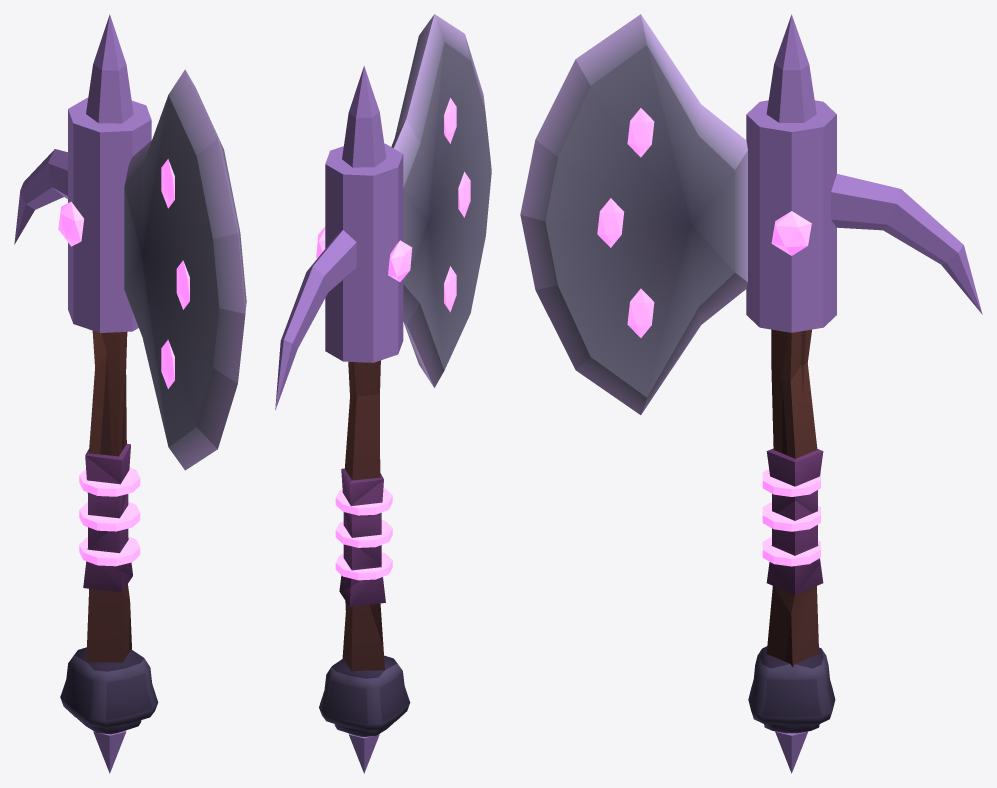
File: axe_epic.glb
3 renders of one model, left to right at view 1: azimuth 30°, elevation 25°; view 2: azimuth 150°, elevation 25°; view 3: azimuth 270°, elevation 25°, orthographic. The views are drawn at different scales.
Visible parts, largest first — view 1: axe_epic_export; view 2: axe_epic_export; view 3: axe_epic_export.
Boxes of the visible parts, x1=… form: axe_epic_export: x1=14, y1=14, x2=246, y2=773; axe_epic_export: x1=275, y1=14, x2=491, y2=773; axe_epic_export: x1=520, y1=14, x2=982, y2=773.
Bounding box in the file's own units: 25.11 × 197 × 109.
